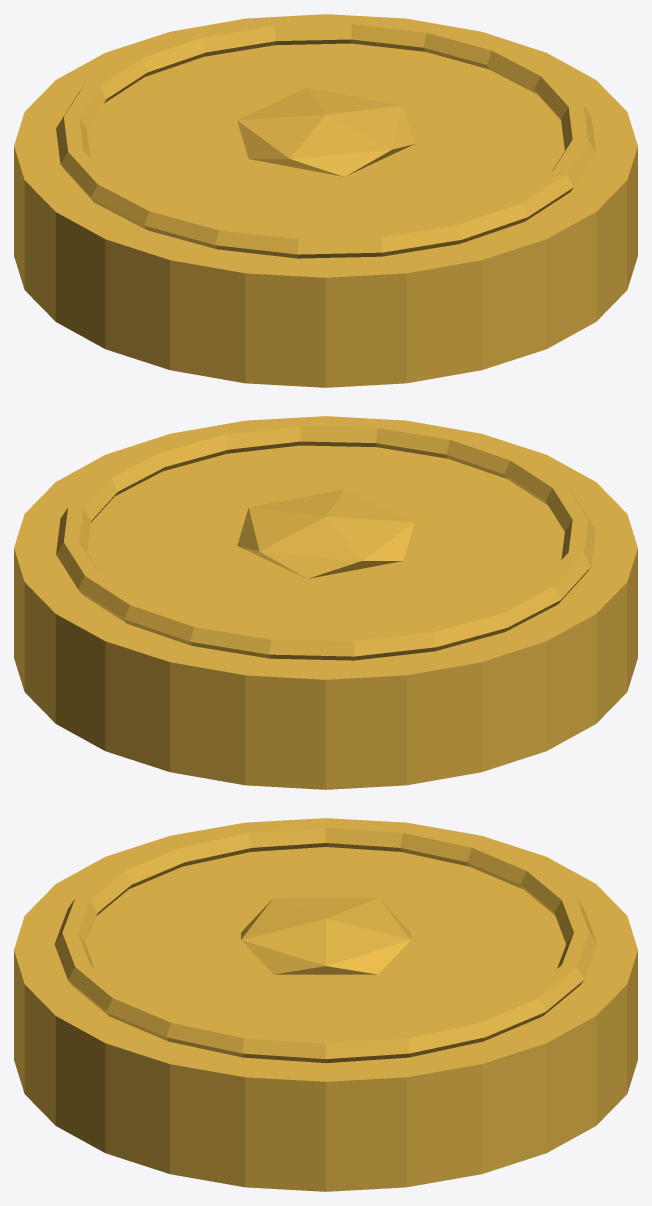
File: reliquia_moeda.glb
3 views of the same model, one above another, from view 1: azimuth 30°, elevation 25°; view 2: azimuth 150°, elevation 25°; view 3: azimuth 270°, elevation 25° (orthographic).
Visible parts, largest first — view 1: reliquia_moeda; view 2: reliquia_moeda; view 3: reliquia_moeda.
Part boxes in pixels (box(x1,y1,x2,y2)): reliquia_moeda: box(14, 14, 637, 387); reliquia_moeda: box(14, 416, 637, 789); reliquia_moeda: box(14, 818, 637, 1191).
Bounding box in the file's own units: 2 × 0.5 × 2.
